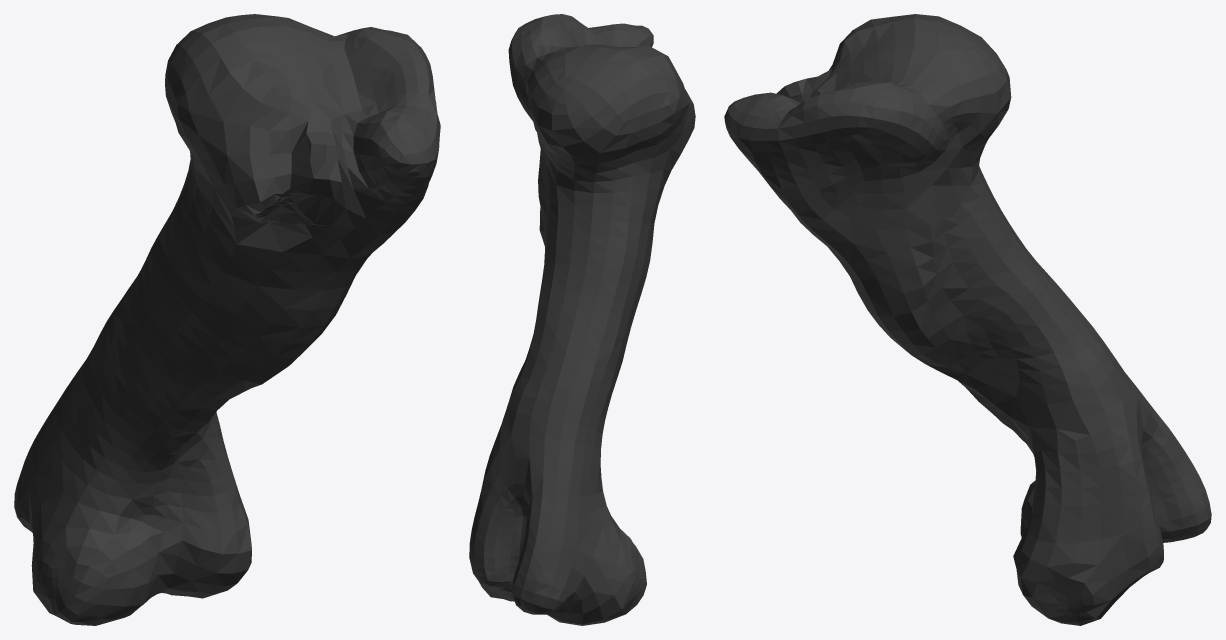
Rendered from Humerus_L_Equine_skeleton_separated_005.glb.
3 views of the same model, side by side, from view 1: azimuth 30°, elevation 25°; view 2: azimuth 150°, elevation 25°; view 3: azimuth 270°, elevation 25° (orthographic). The views are drawn at different scales.
Parts seen in each view (by area): view 1: Humerus_L_Equine_skeleton_separated_005; view 2: Humerus_L_Equine_skeleton_separated_005; view 3: Humerus_L_Equine_skeleton_separated_005.
Part boxes in pixels (<box>): Humerus_L_Equine_skeleton_separated_005: <box>14,14,440,625</box>; Humerus_L_Equine_skeleton_separated_005: <box>469,14,695,625</box>; Humerus_L_Equine_skeleton_separated_005: <box>724,14,1211,625</box>.
Size of the model in its own units: 0.1825 by 0.4289 by 0.3244.
1 material, 1 textured.
